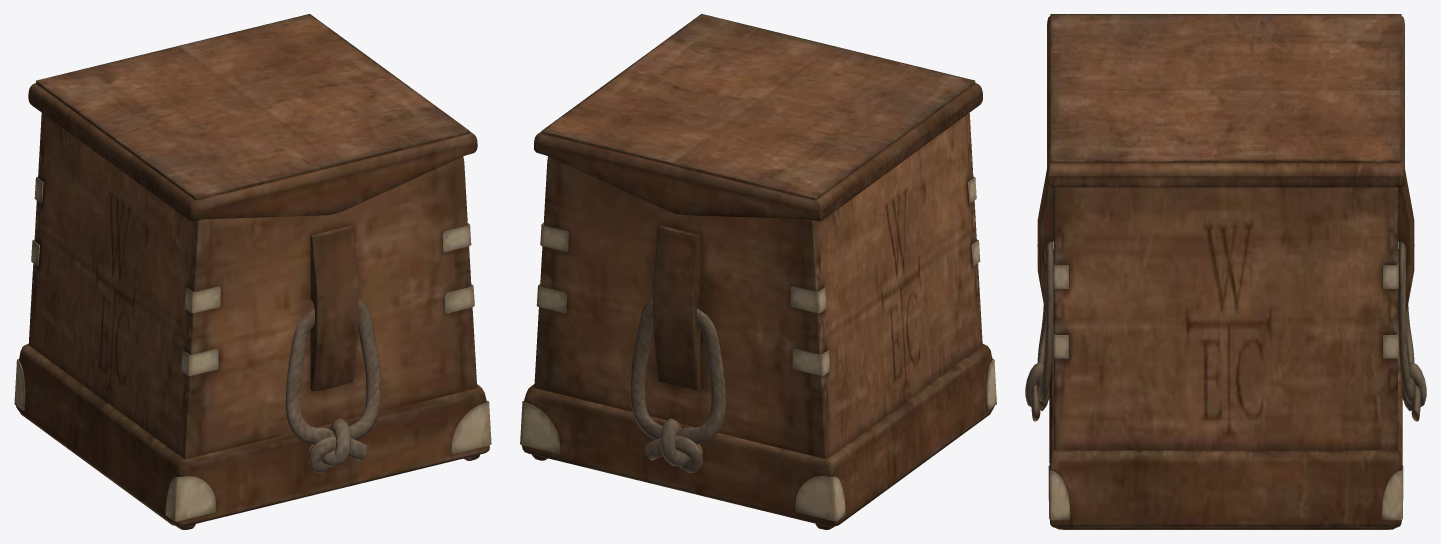
File: prop-crate.glb
3 views of the same model, side by side, from view 1: azimuth 30°, elevation 25°; view 2: azimuth 150°, elevation 25°; view 3: azimuth 270°, elevation 25° (orthographic). The views are drawn at different scales.
Parts seen in each view (by area): view 1: prop-crate (×2); view 2: prop-crate (×2); view 3: prop-crate (×2).
Boxes of the visible parts, <box> form: prop-crate (×2): <box>14,14,491,529</box>; prop-crate (×2): <box>520,14,996,529</box>; prop-crate (×2): <box>1025,14,1426,529</box>.
Size of the model in its own units: 0.79 by 0.79 by 0.79.
1 material, 1 textured.
